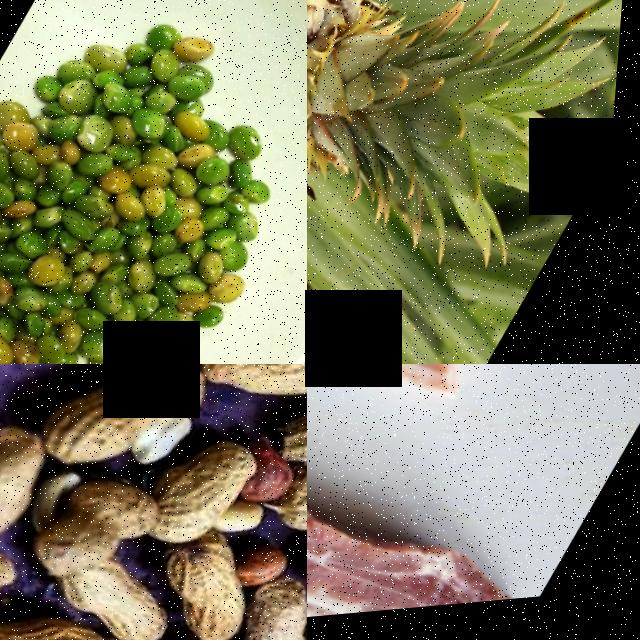peanuts: (36, 364, 223, 501), (46, 461, 172, 583), (154, 423, 270, 545), (61, 553, 193, 640), (156, 528, 255, 625), (0, 409, 68, 549), (191, 364, 307, 430), (229, 569, 307, 640), (0, 522, 35, 640), (272, 396, 307, 492)
peas: (0, 0, 307, 364)
pineapple: (307, 0, 506, 311)
pork belly: (307, 401, 560, 637), (307, 364, 508, 428)
